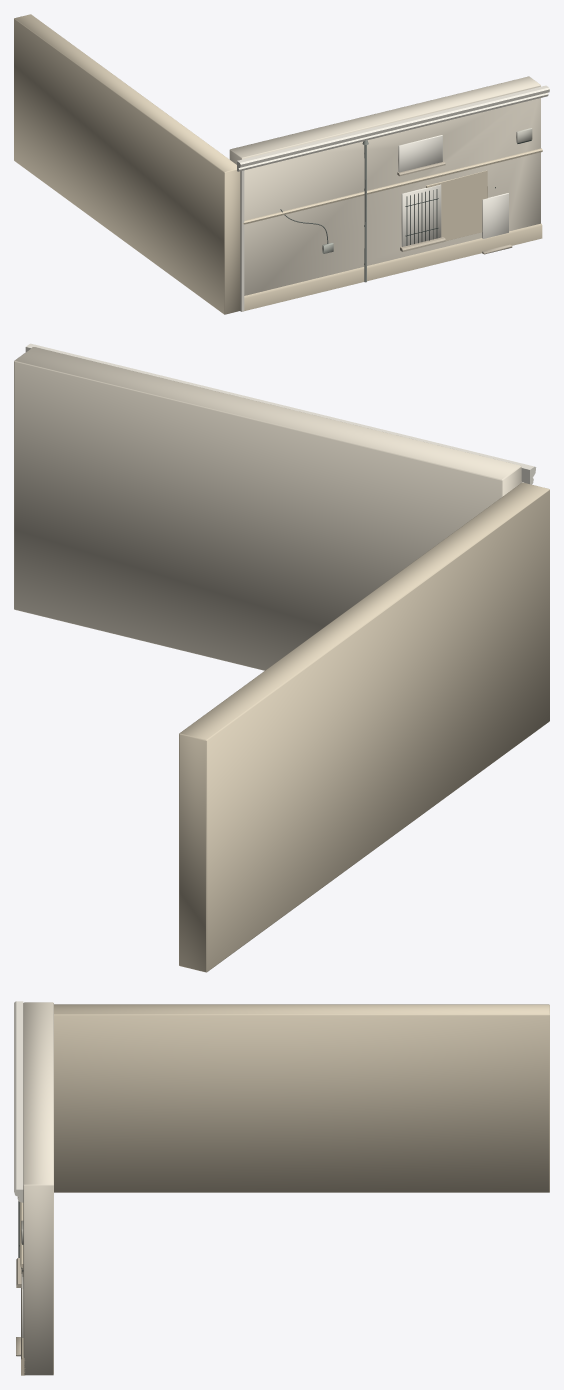
File: building.glb
3 renders of one model, top to bottom at view 1: azimuth 30°, elevation 25°; view 2: azimuth 150°, elevation 25°; view 3: azimuth 270°, elevation 25°, orthographic. The views are drawn at different scales.
Visible parts, largest first — view 1: CornerBuilding; view 2: CornerBuilding; view 3: CornerBuilding.
Boxes of the visible parts, x1,y1,x2,y2 form: CornerBuilding: [14, 14, 549, 314]; CornerBuilding: [14, 343, 549, 972]; CornerBuilding: [14, 1001, 549, 1375].
Size of the model in its own units: 16.75 by 7.67 by 19.34.
